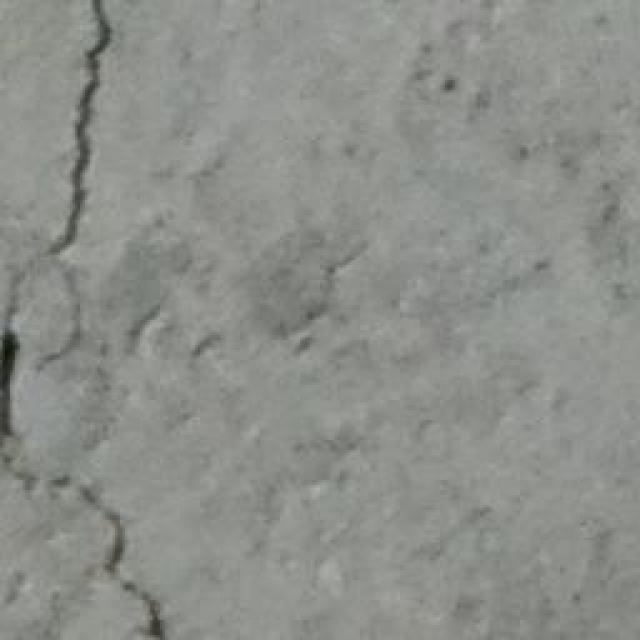Longitudinal: (0, 0, 194, 640)
